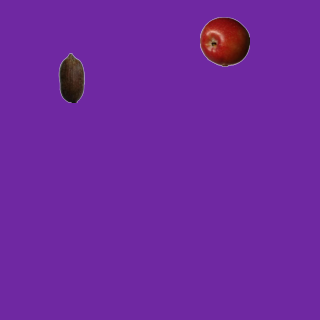Apple Braeburn: (199, 16, 249, 66)
Nut Pecan: (46, 52, 96, 102)
